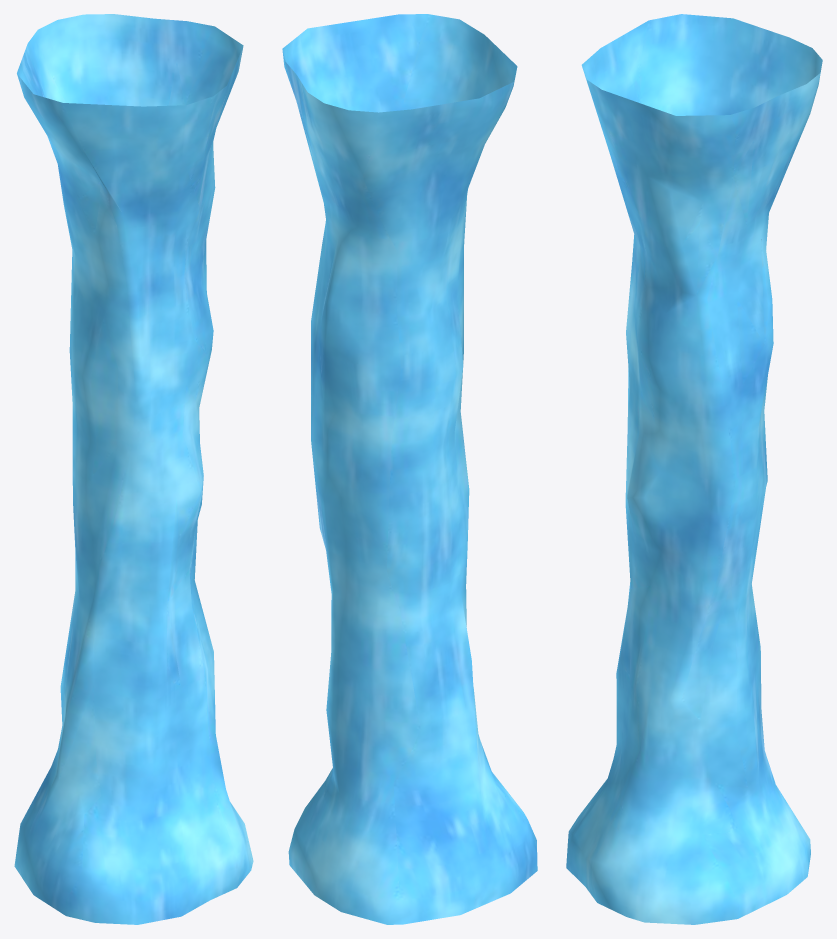
Rendered from SM_Ice_Pillar_1.glb.
3 renders of one model, left to right at view 1: azimuth 30°, elevation 25°; view 2: azimuth 150°, elevation 25°; view 3: azimuth 270°, elevation 25°, orthographic.
Parts seen in each view (by area): view 1: SM_Ice_Pillar_1; view 2: SM_Ice_Pillar_1; view 3: SM_Ice_Pillar_1.
Boxes of the visible parts, <box> form: SM_Ice_Pillar_1: <box>14,14,253,924</box>; SM_Ice_Pillar_1: <box>282,14,537,924</box>; SM_Ice_Pillar_1: <box>566,14,822,924</box>.
Bounding box in the file's own units: 1.68 × 6.2 × 1.78.
Materials: 1 (1 with a texture image).
